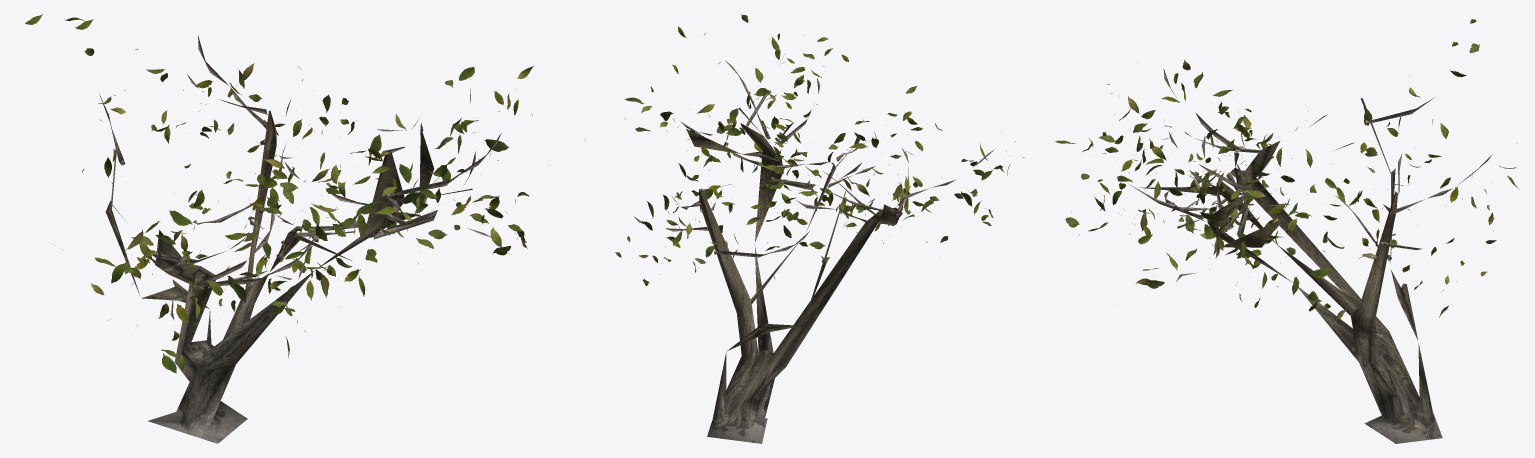
Rendered from island_tree_02.glb.
3 renders of one model, left to right at view 1: azimuth 30°, elevation 25°; view 2: azimuth 150°, elevation 25°; view 3: azimuth 270°, elevation 25°, orthographic. The views are drawn at different scales.
Parts seen in each view (by area): view 1: island_tree_02_LOD0; view 2: island_tree_02_LOD0; view 3: island_tree_02_LOD0.
Boxes of the visible parts, x1,y1,x2,y2 form: island_tree_02_LOD0: (25, 14, 584, 443); island_tree_02_LOD0: (615, 14, 1024, 443); island_tree_02_LOD0: (1055, 19, 1519, 443).
Bounding box in the file's own units: 3.7 × 3.28 × 3.91.
Materials: 3 (3 with a texture image).
